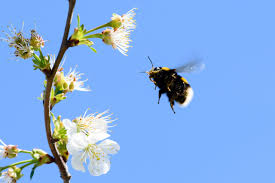insect: (137, 53, 204, 113)
